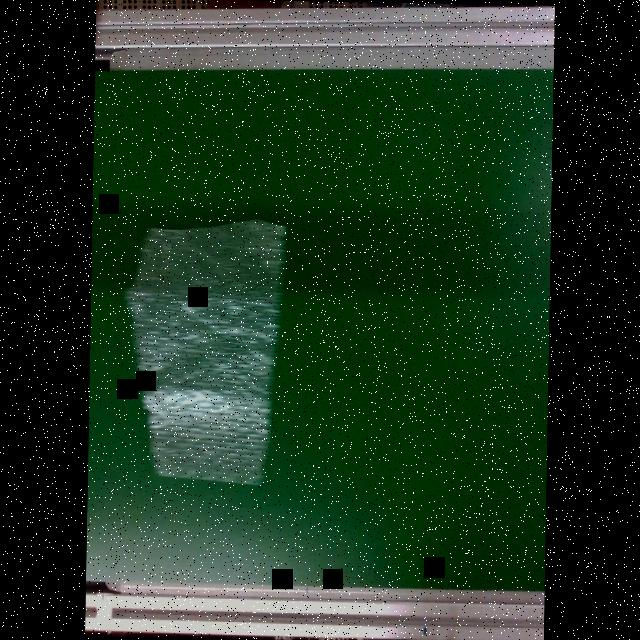scrap_plastic: (123, 215, 300, 490)
